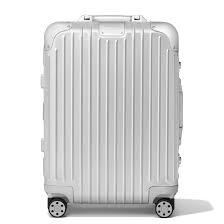suitcase: (38, 15, 183, 217)
